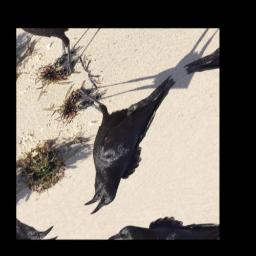Crow: (34, 37, 208, 218)
